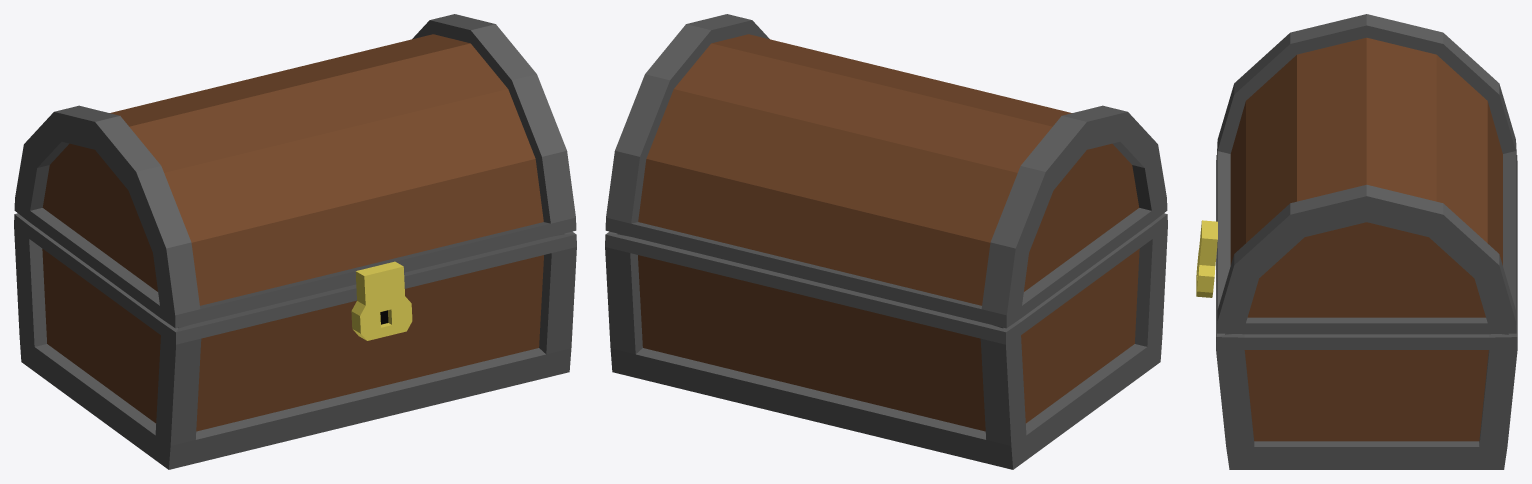
The model's file is Forziere.fbx.
3 views of the same model, side by side, from view 1: azimuth 30°, elevation 25°; view 2: azimuth 150°, elevation 25°; view 3: azimuth 270°, elevation 25° (orthographic). The views are drawn at different scales.
Parts seen in each view (by area): view 1: CassaSopra, CassaSotto; view 2: CassaSopra, CassaSotto; view 3: CassaSopra, CassaSotto.
Part boxes in pixels (left/top/right/bottom): CassaSopra: left=14, top=14, right=576, bottom=340; CassaSotto: left=14, top=213, right=576, bottom=469; CassaSopra: left=605, top=14, right=1167, bottom=328; CassaSotto: left=605, top=213, right=1167, bottom=469; CassaSopra: left=1196, top=14, right=1516, bottom=334; CassaSotto: left=1216, top=155, right=1517, bottom=469.
Size of the model in its own units: 32.7 by 22.93 by 24.4.
